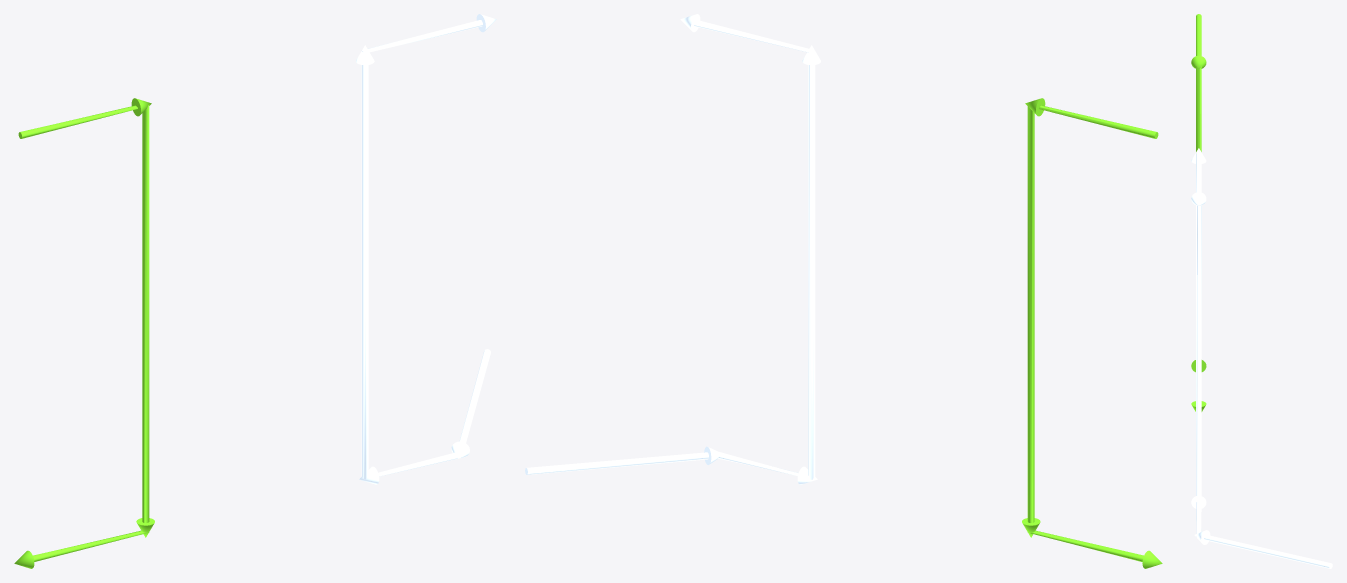
File: molecular_sieve_adsorber_flow.glb
3 renders of one model, left to right at view 1: azimuth 30°, elevation 25°; view 2: azimuth 150°, elevation 25°; view 3: azimuth 270°, elevation 25°, orthographic. The views are drawn at different scales.
Visible parts, largest first — view 1: regeneration, wet_gas_in; view 2: regeneration, wet_gas_in; view 3: regeneration, wet_gas_in.
Part boxes in pixels (x1,y1,x2,y2): regeneration: [356, 14, 496, 484]; wet_gas_in: [14, 98, 154, 568]; regeneration: [525, 14, 820, 484]; wet_gas_in: [1022, 98, 1162, 568]; regeneration: [1191, 148, 1332, 568]; wet_gas_in: [1191, 14, 1206, 411].
Size of the model in its own units: 3.56 by 2.7 by 0.9643.
